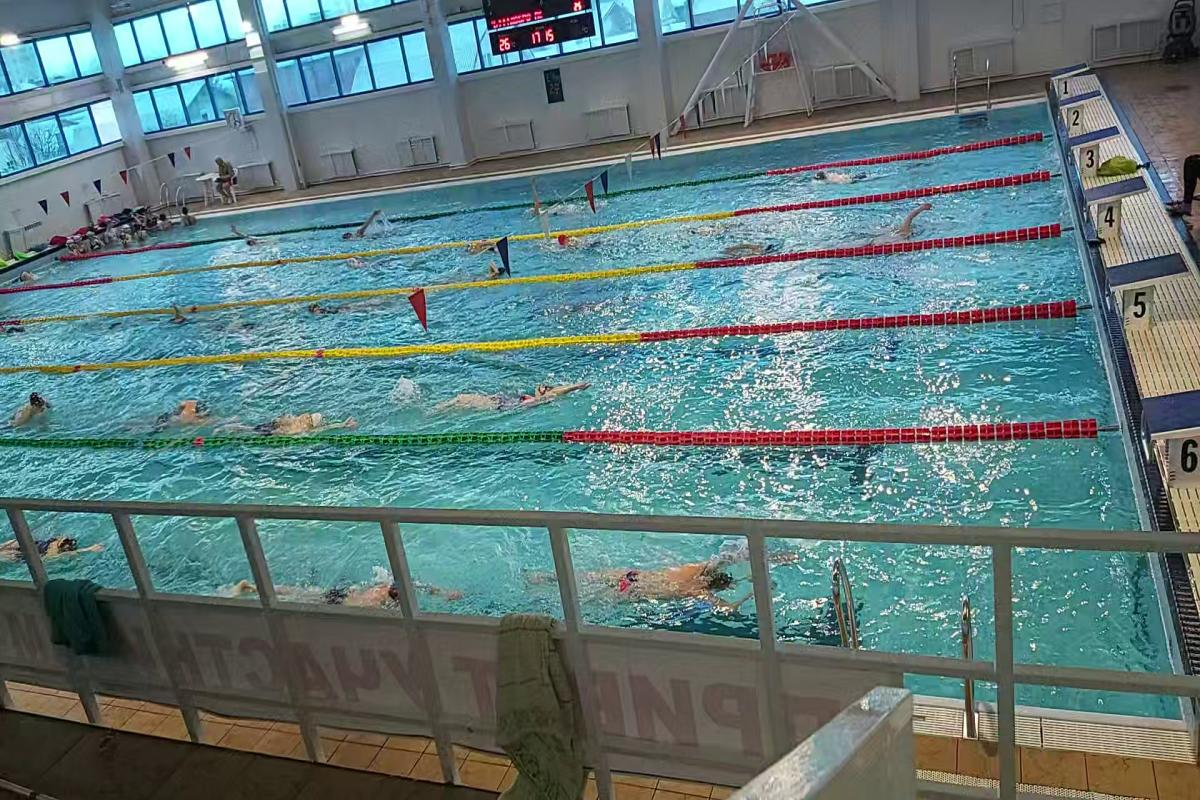swimmer: (540, 544, 744, 622), (430, 371, 595, 415), (237, 570, 397, 608), (237, 399, 362, 436), (4, 526, 108, 564), (135, 389, 226, 432), (880, 194, 938, 247), (3, 387, 66, 427), (339, 196, 389, 246), (306, 297, 400, 322), (799, 163, 886, 189), (714, 231, 780, 259), (552, 232, 617, 253), (340, 252, 408, 271), (228, 224, 276, 248), (474, 264, 512, 284), (457, 239, 501, 256)
